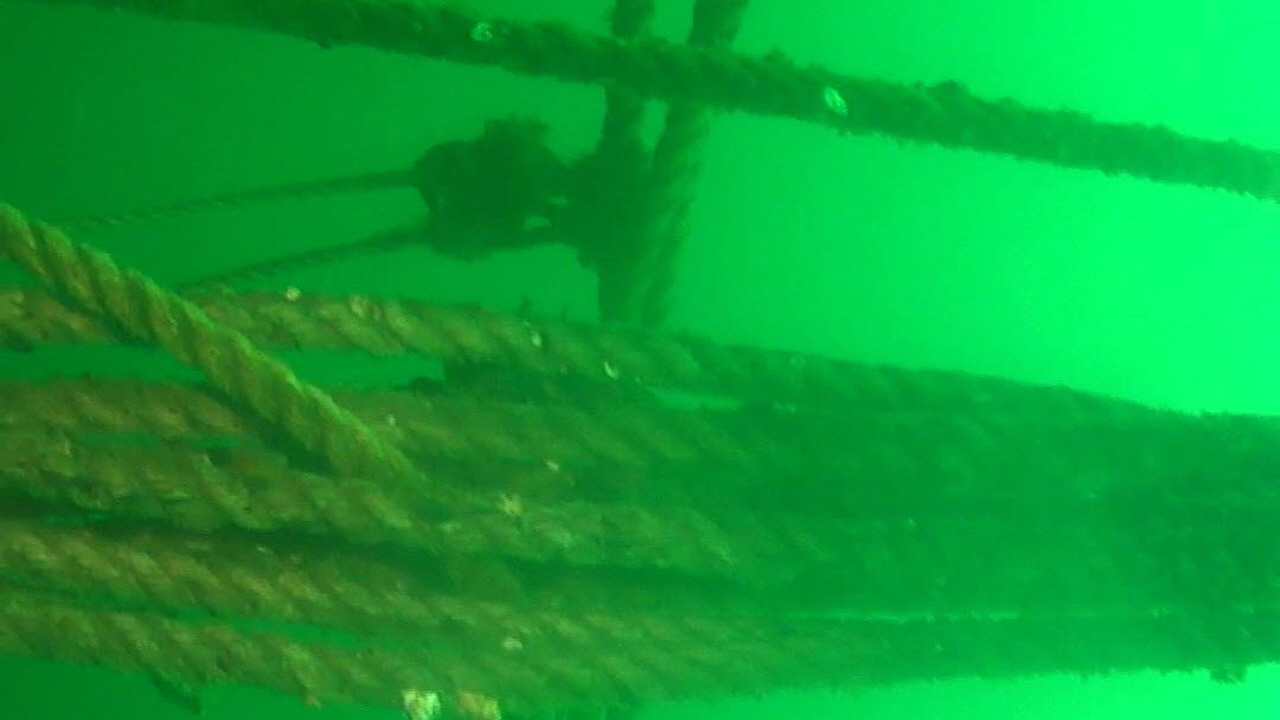bundle of ropes: (0, 201, 1280, 720)
rope: (1, 0, 1280, 201)
